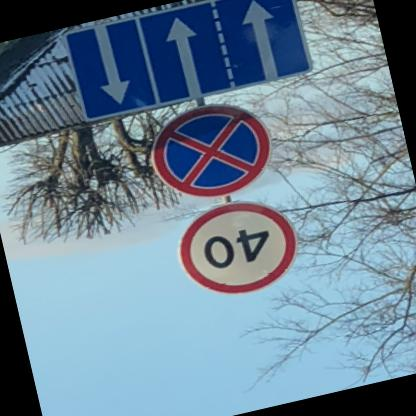speedlimit: (173, 190, 310, 308)
